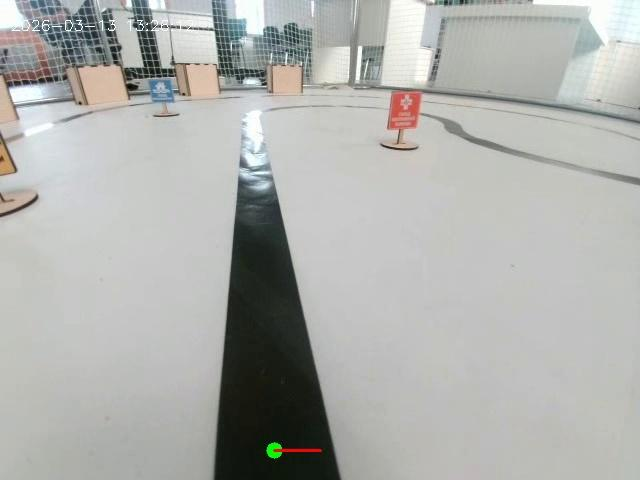flood: (137, 76, 188, 137)
industrial: (0, 121, 51, 212)
medical: (372, 74, 444, 159)
